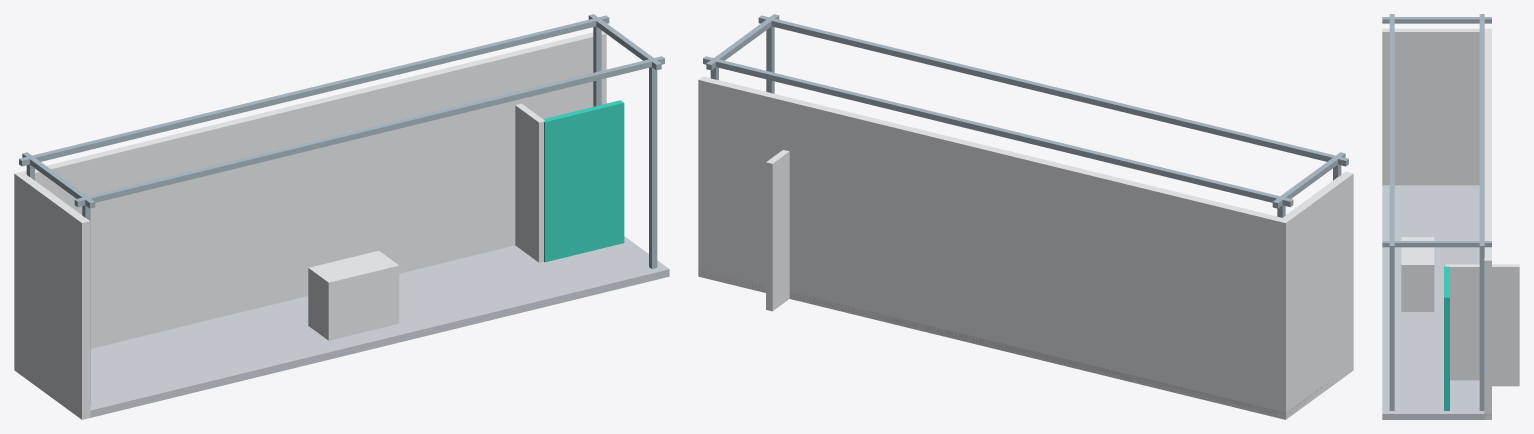
3 views of the same model, side by side, from view 1: azimuth 30°, elevation 25°; view 2: azimuth 150°, elevation 25°; view 3: azimuth 270°, elevation 25° (orthographic). The views are drawn at different scales.
Parts seen in each view (by area): view 1: Exhibition Booth Concept; view 2: Exhibition Booth Concept; view 3: Exhibition Booth Concept.
Boxes of the visible parts, x1,y1,x2,y2 form: Exhibition Booth Concept: [14, 14, 669, 419]; Exhibition Booth Concept: [698, 14, 1353, 419]; Exhibition Booth Concept: [1382, 14, 1519, 419].
Size of the model in its own units: 10 by 3.49 by 2.5.
